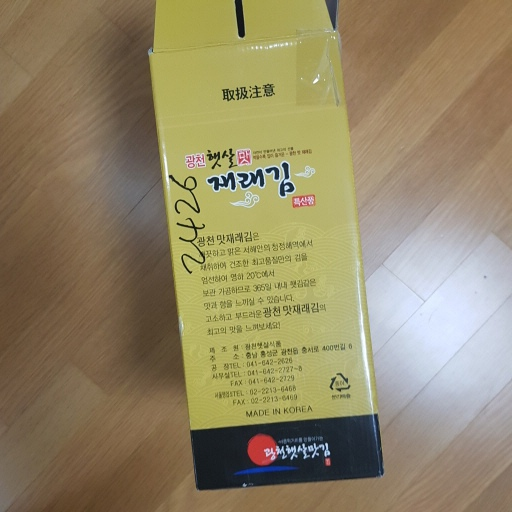Paper_0: (141, 1, 393, 496)
